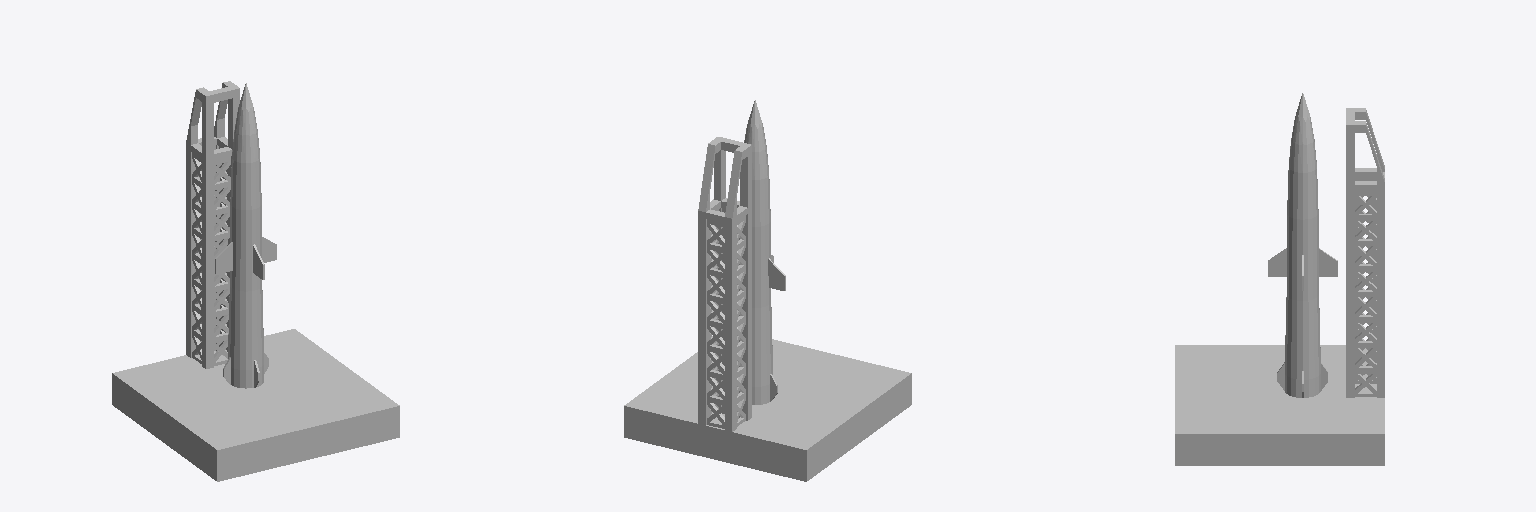
Rendered from medium_launcher.obj.
The picture shows the model from 3 angles: view 1: azimuth 30°, elevation 25°; view 2: azimuth 150°, elevation 25°; view 3: azimuth 270°, elevation 25°; orthographic projection.
Visible parts, largest first — view 1: SmallSilo, SmallSilo.001_SmallSilo.002; view 2: SmallSilo, SmallSilo.001_SmallSilo.002; view 3: SmallSilo, SmallSilo.001_SmallSilo.002.
Part boxes in pixels (bbox=[...]): SmallSilo: bbox=[112, 81, 399, 481]; SmallSilo.001_SmallSilo.002: bbox=[215, 83, 276, 388]; SmallSilo: bbox=[624, 137, 911, 481]; SmallSilo.001_SmallSilo.002: bbox=[744, 100, 785, 404]; SmallSilo: bbox=[1175, 108, 1384, 465]; SmallSilo.001_SmallSilo.002: bbox=[1268, 93, 1337, 397].
Bounding box in the file's own units: 3 × 5.19 × 3.